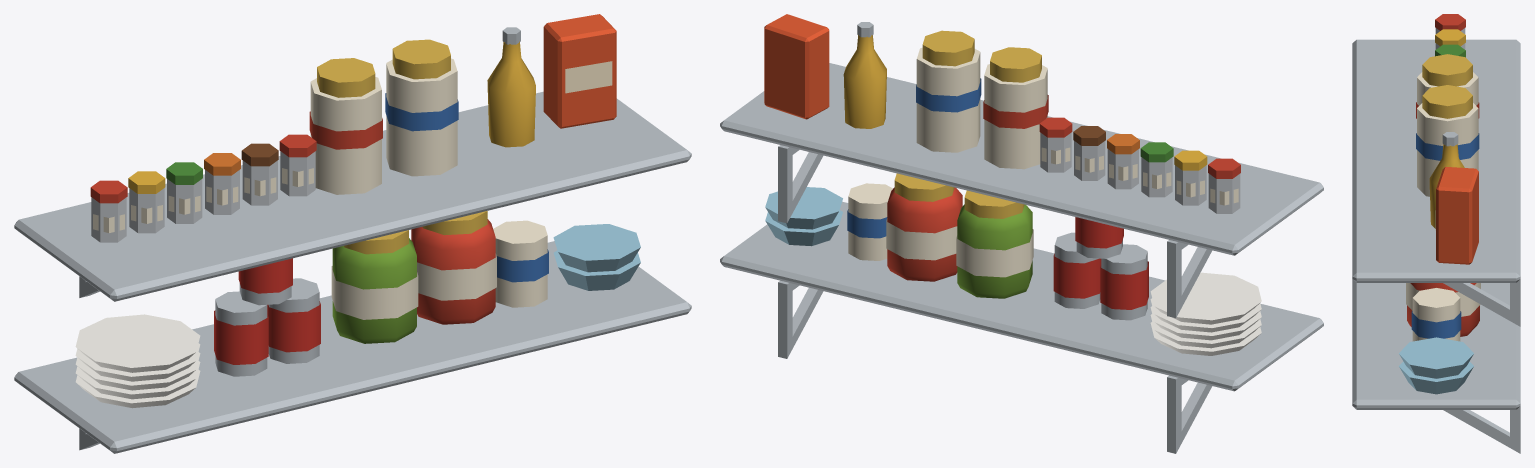
File: Shop_WallShelf.fbx
3 renders of one model, left to right at view 1: azimuth 30°, elevation 25°; view 2: azimuth 150°, elevation 25°; view 3: azimuth 270°, elevation 25°, orthographic. The views are drawn at different scales.
Parts seen in each view (by area): view 1: Steel, Canisters, Plates, Tins, CrackerBox, Lids, CanLabels, JarLabels, Jar0, Jar1, Bowls, Tin (+10 smaller); view 2: Steel, Canisters, Plates, CrackerBox, Lids, Tins, CanLabels, JarLabels, Jar0, Jar1, Tin, Oil (+7 smaller); view 3: Steel, Canisters, CrackerBox, Bowls, Lids, SaltLabel, Oil, Colour5, Jar1, JarLabels, Colour0, Colour1 (+2 smaller).
Part boxes in pixels (box(x1,y1,x2,y2)): Steel: box(14, 91, 691, 453); Canisters: box(310, 58, 547, 307); Plates: box(75, 314, 200, 408); Tins: box(91, 151, 315, 242); CrackerBox: box(543, 14, 616, 128); Lids: box(317, 39, 487, 254); CanLabels: box(214, 258, 320, 364); JarLabels: box(331, 253, 496, 319); Jar0: box(332, 238, 416, 343); Jar1: box(411, 219, 495, 324); Bowls: box(553, 224, 640, 290); Tin: box(215, 27, 520, 376); Steel: box(720, 63, 1323, 453); Canisters: box(848, 47, 1047, 260); Plates: box(1150, 272, 1261, 355); CrackerBox: box(764, 14, 829, 119); Lids: box(894, 30, 1041, 218); Tins: box(1040, 132, 1240, 213); CanLabels: box(1053, 217, 1148, 309); JarLabels: box(886, 218, 1033, 277); Jar0: box(957, 204, 1032, 298); Jar1: box(887, 187, 962, 281); Tin: box(857, 22, 1147, 320); Oil: box(843, 35, 886, 128); Steel: box(1352, 39, 1520, 453); Canisters: box(1412, 72, 1478, 341); CrackerBox: box(1436, 167, 1478, 264); Bowls: box(1399, 337, 1473, 394); Lids: box(1422, 54, 1472, 118); SaltLabel: box(1411, 311, 1461, 338); Oil: box(1429, 144, 1464, 228); Colour5: box(1416, 133, 1479, 160); Jar1: box(1407, 283, 1479, 336); JarLabels: box(1406, 283, 1480, 316); Colour0: box(1416, 14, 1479, 118); Colour1: box(1435, 29, 1465, 46).
Size of the model in its own units: 400 by 235 by 120.
